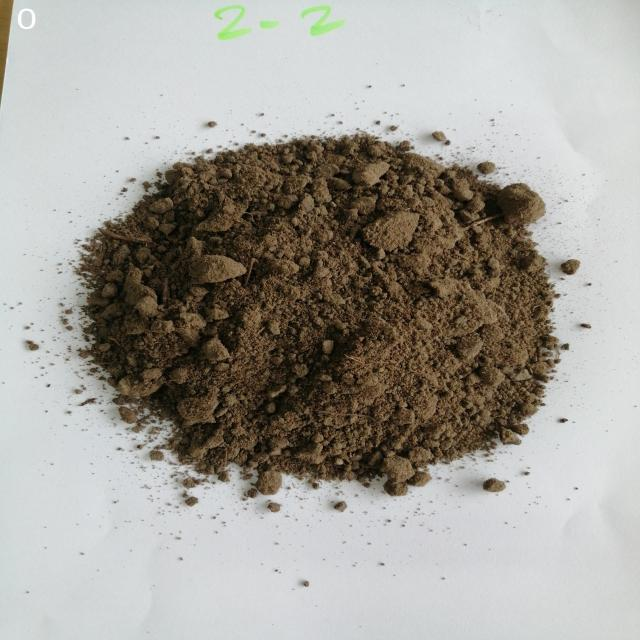soil: (176, 180, 494, 432)
